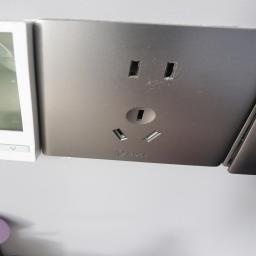outlet: (30, 18, 256, 172)
